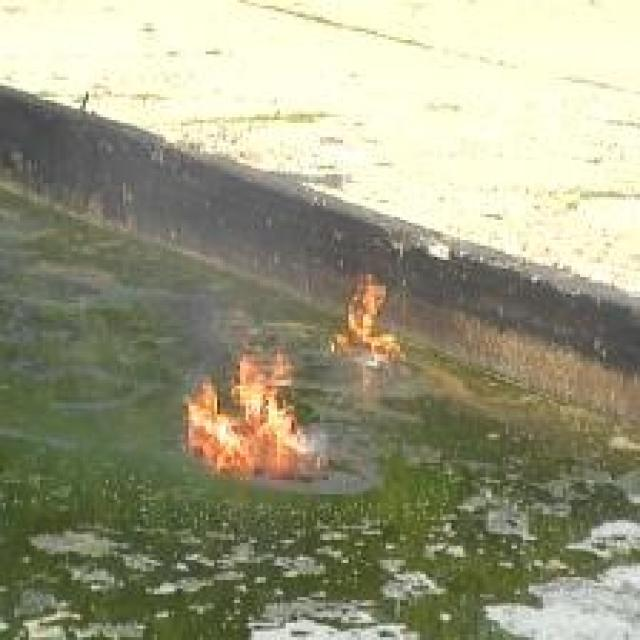Fire: (184, 350, 327, 476), (342, 268, 402, 363)
